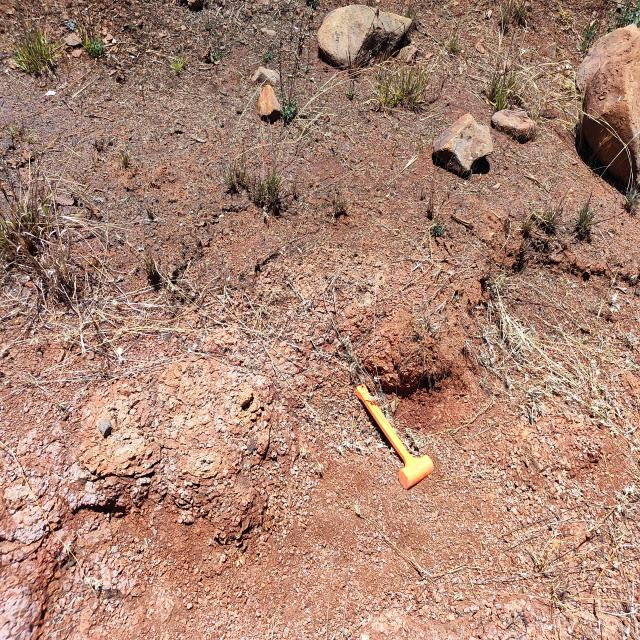Orange_hammer: (354, 383, 434, 490)
